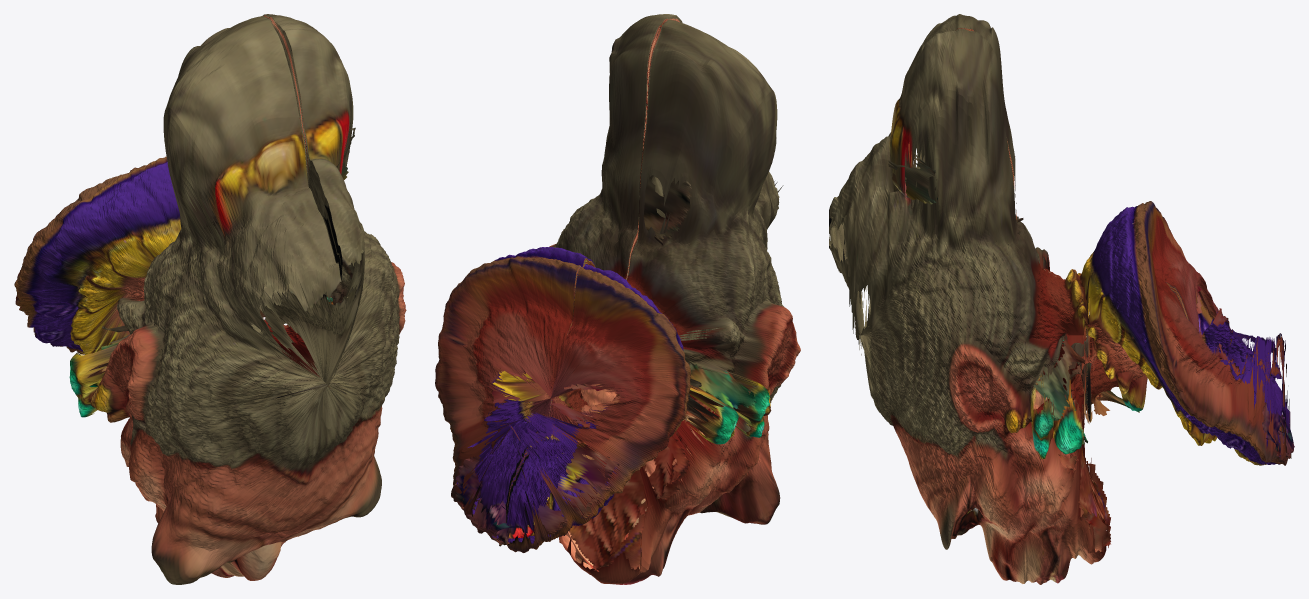
File: detail_mesh.glb
The picture shows the model from 3 angles, left to right: view 1: azimuth 30°, elevation 25°; view 2: azimuth 150°, elevation 25°; view 3: azimuth 270°, elevation 25°; orthographic projection. The views are drawn at different scales.
Parts seen in each view (by area): view 1: ipn; view 2: ipn, fill; view 3: ipn, fill.
Part boxes in pixels (bbox=[...]): ipn: bbox=[14, 14, 406, 584]; ipn: bbox=[435, 14, 800, 584]; fill: bbox=[455, 175, 756, 571]; ipn: bbox=[829, 14, 1291, 584]; fill: bbox=[888, 153, 1294, 551].
Size of the model in its own units: 0.9369 by 1.68 by 1.28.
Materials: 2 (1 with a texture image).
